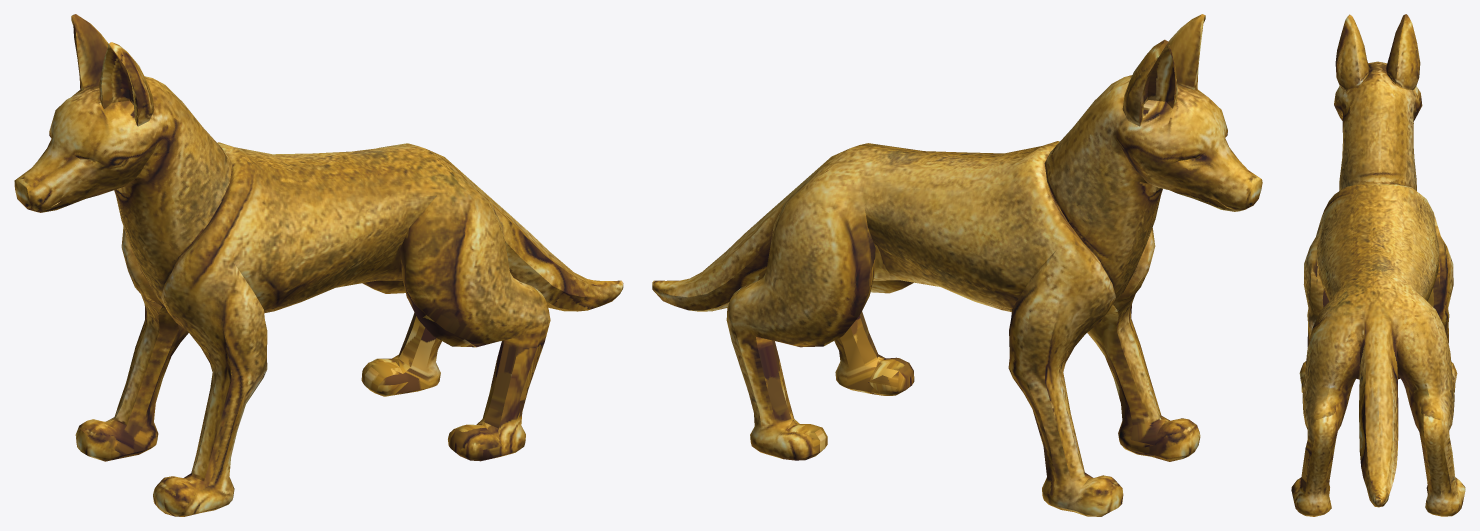
File: item_statuet3.glb
3 views of the same model, side by side, from view 1: azimuth 30°, elevation 25°; view 2: azimuth 150°, elevation 25°; view 3: azimuth 270°, elevation 25° (orthographic). The views are drawn at different scales.
Visible parts, largest first — view 1: sculpture_statuet3; view 2: sculpture_statuet3; view 3: sculpture_statuet3.
Boxes of the visible parts, <box> form: sculpture_statuet3: <box>14,14,623,516</box>; sculpture_statuet3: <box>652,14,1262,516</box>; sculpture_statuet3: <box>1291,14,1465,516</box>.
Size of the model in its own units: 0.9999 by 0.7621 by 0.3312.
1 material, 1 textured.
